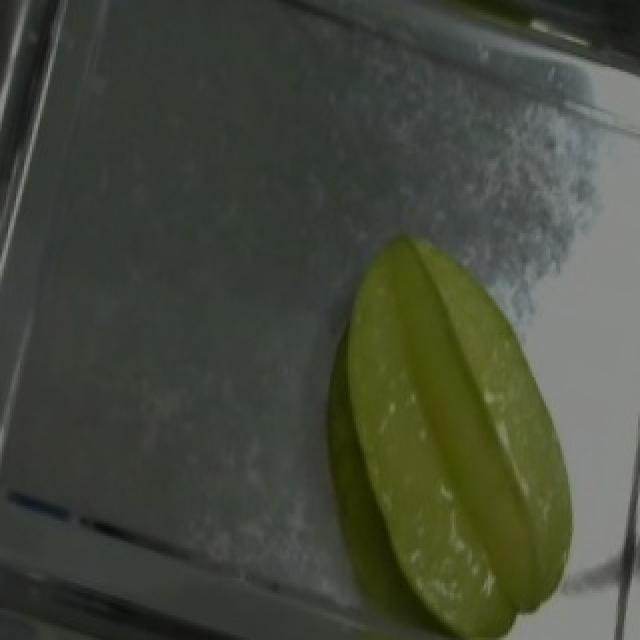fruit: (292, 206, 626, 593)
